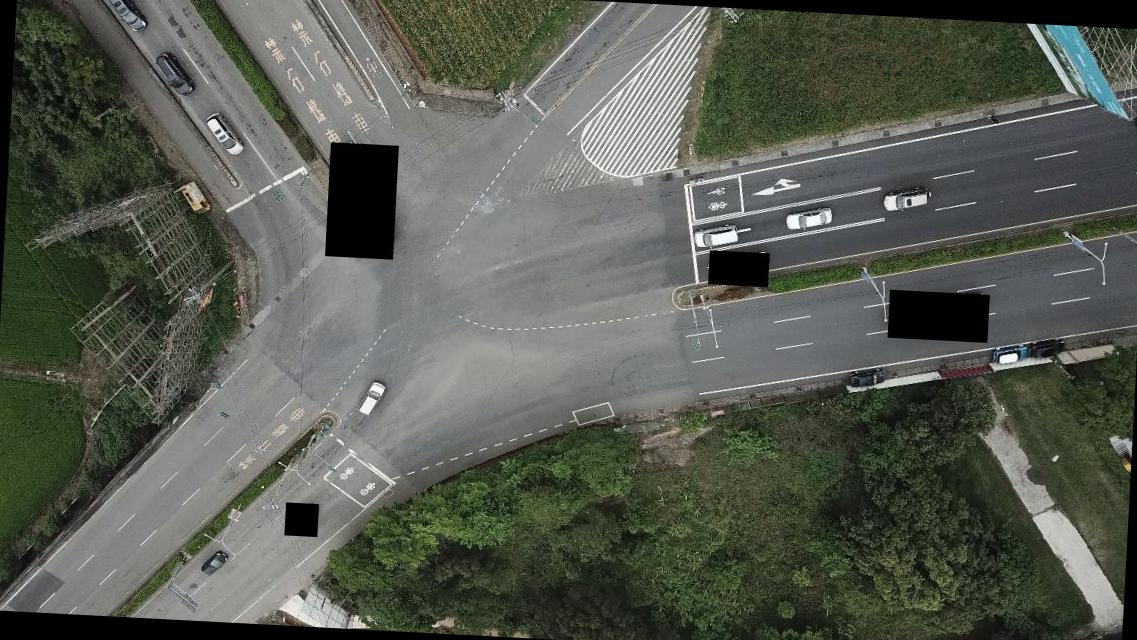vehicle: (154, 50, 194, 98), (204, 112, 243, 156), (102, 0, 149, 34), (785, 206, 833, 234), (882, 186, 928, 213), (691, 224, 740, 248), (358, 380, 384, 418), (1028, 337, 1066, 362), (847, 366, 886, 390), (181, 184, 210, 214), (992, 343, 1028, 367), (200, 550, 227, 578)
